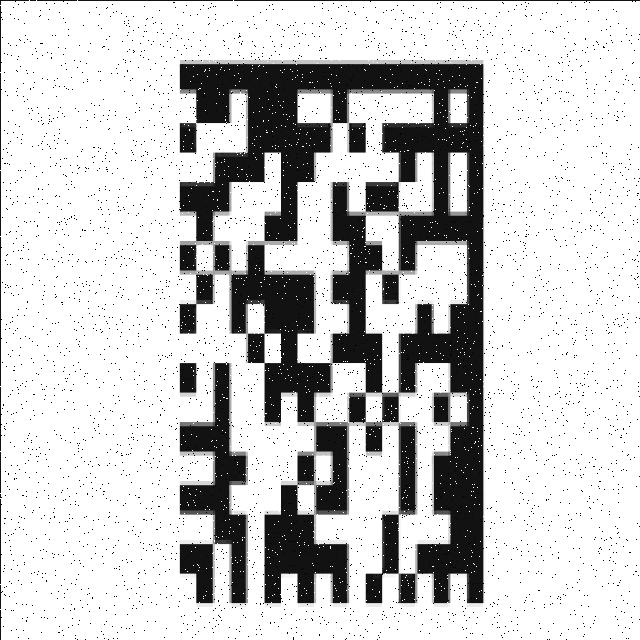datamatrix: (153, 21, 515, 640)
